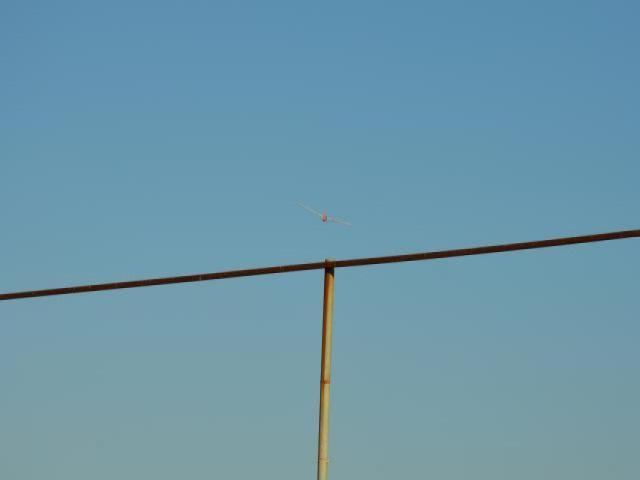iha: (300, 202, 352, 228)
